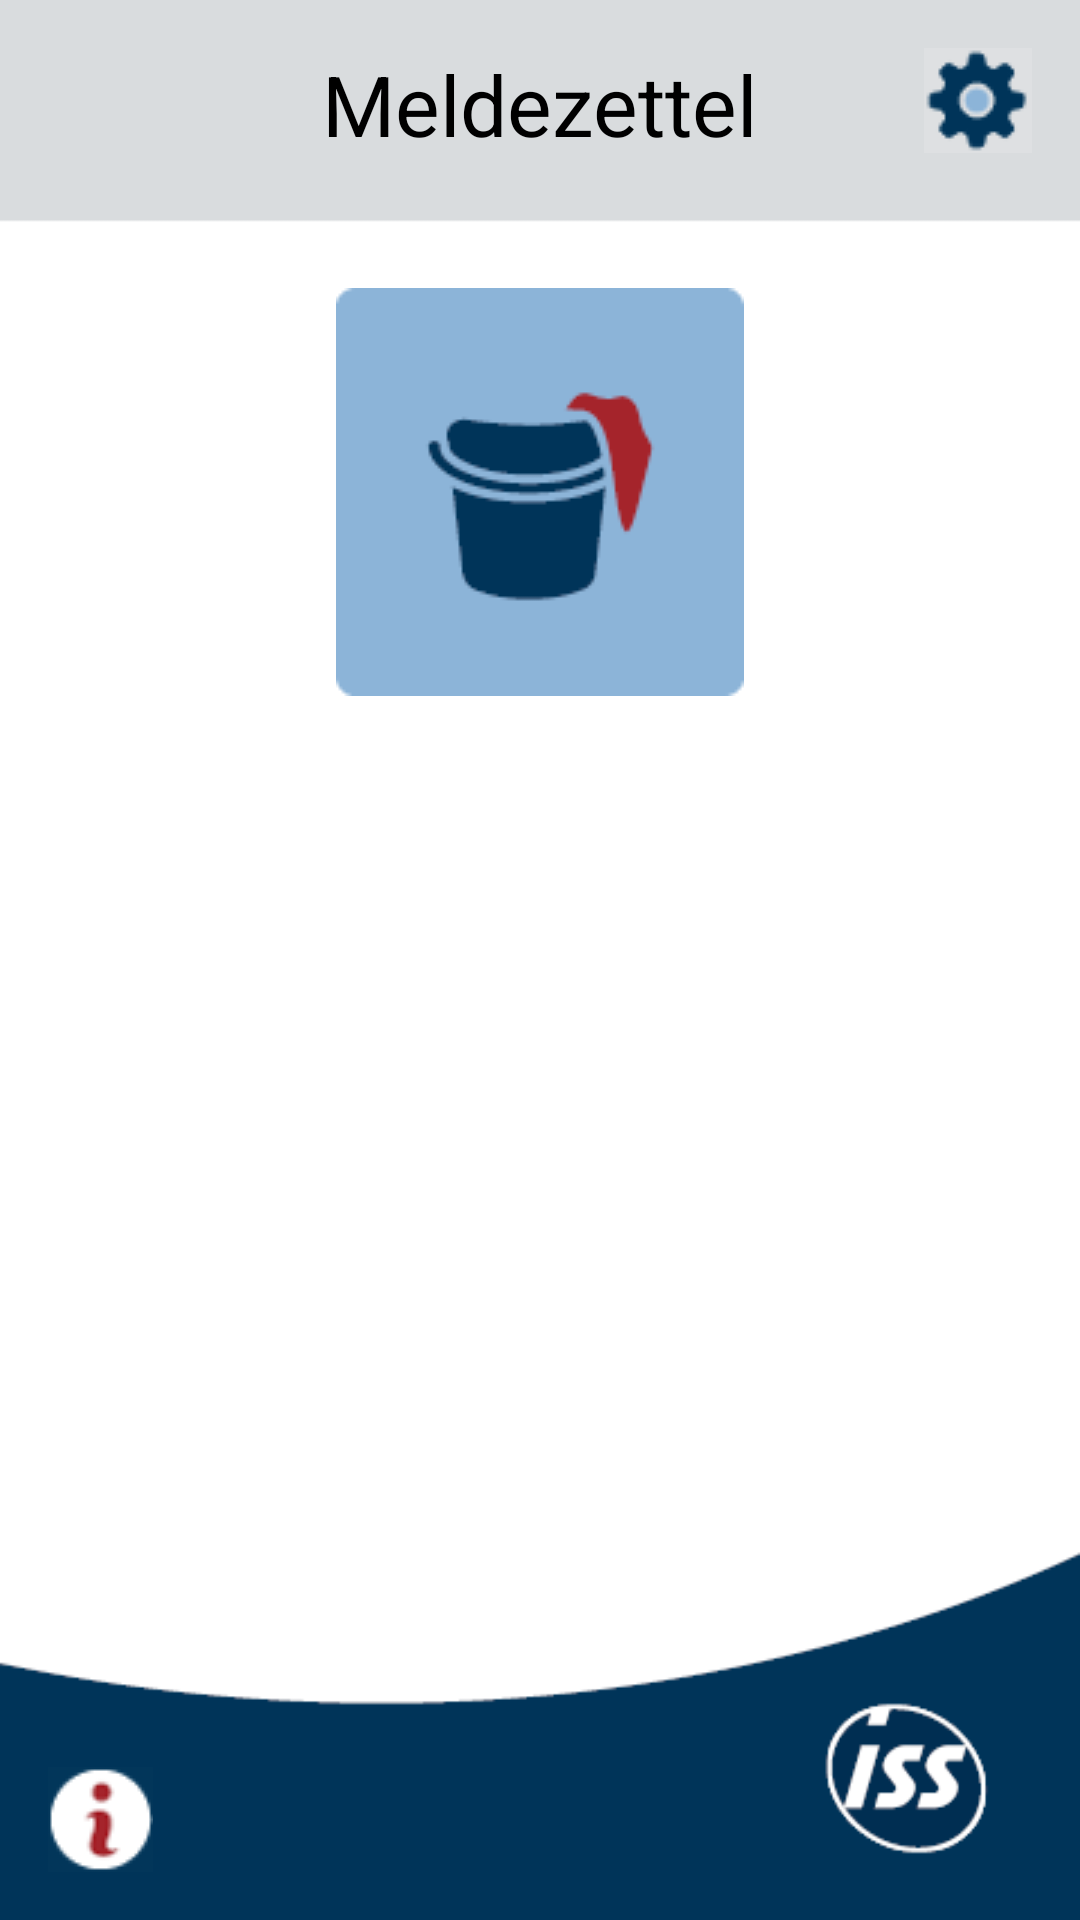

Named icons in this screenshot (1080px x 1920px) and their centers, [x,y]:
info: [101,1819]
settings: [977,100]
